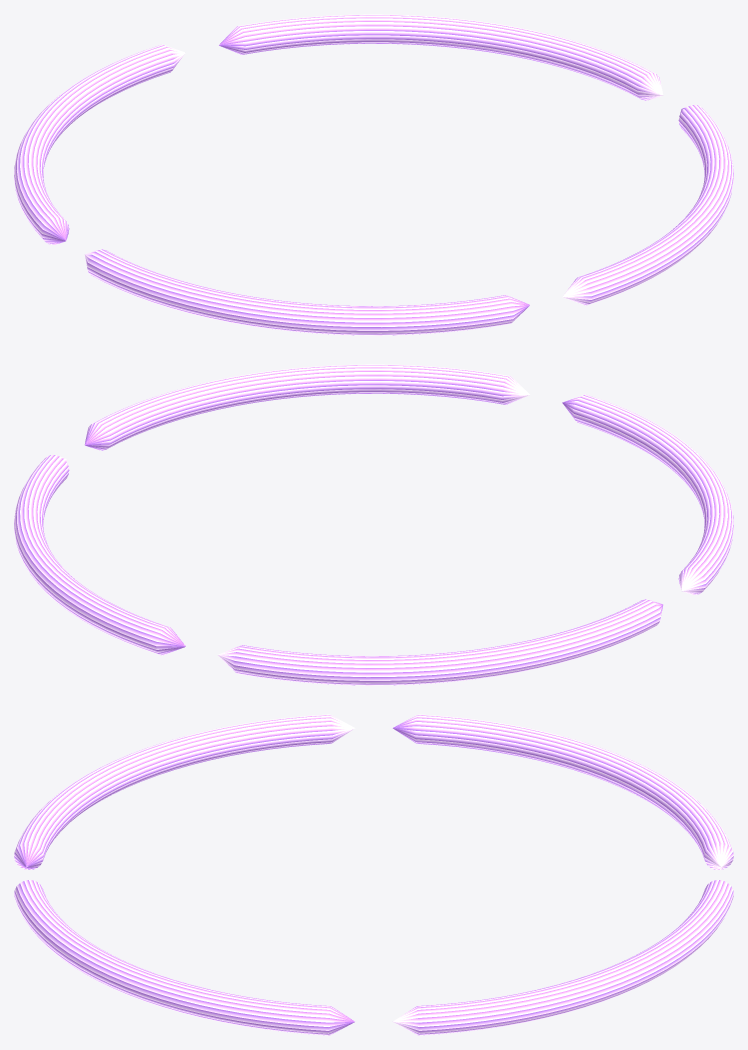
The model's file is RingSix.gltf.
3 renders of one model, top to bottom at view 1: azimuth 30°, elevation 25°; view 2: azimuth 150°, elevation 25°; view 3: azimuth 270°, elevation 25°, orthographic.
Parts seen in each view (by area): view 1: Object 1; view 2: Object 1; view 3: Object 1.
Part boxes in pixels (bbox=[...]): Object 1: bbox=[14, 14, 733, 335]; Object 1: bbox=[14, 364, 733, 685]; Object 1: bbox=[14, 714, 733, 1035].
Bounding box in the file's own units: 0.1448 × 0.006 × 0.1448.
Materials: 1 (1 with a texture image).
